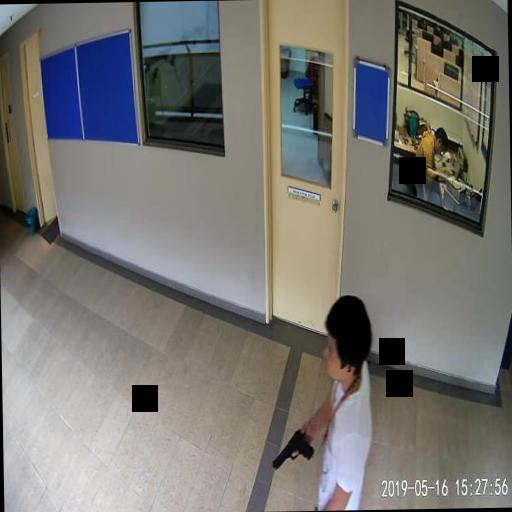Handgun: (271, 428, 313, 469)
